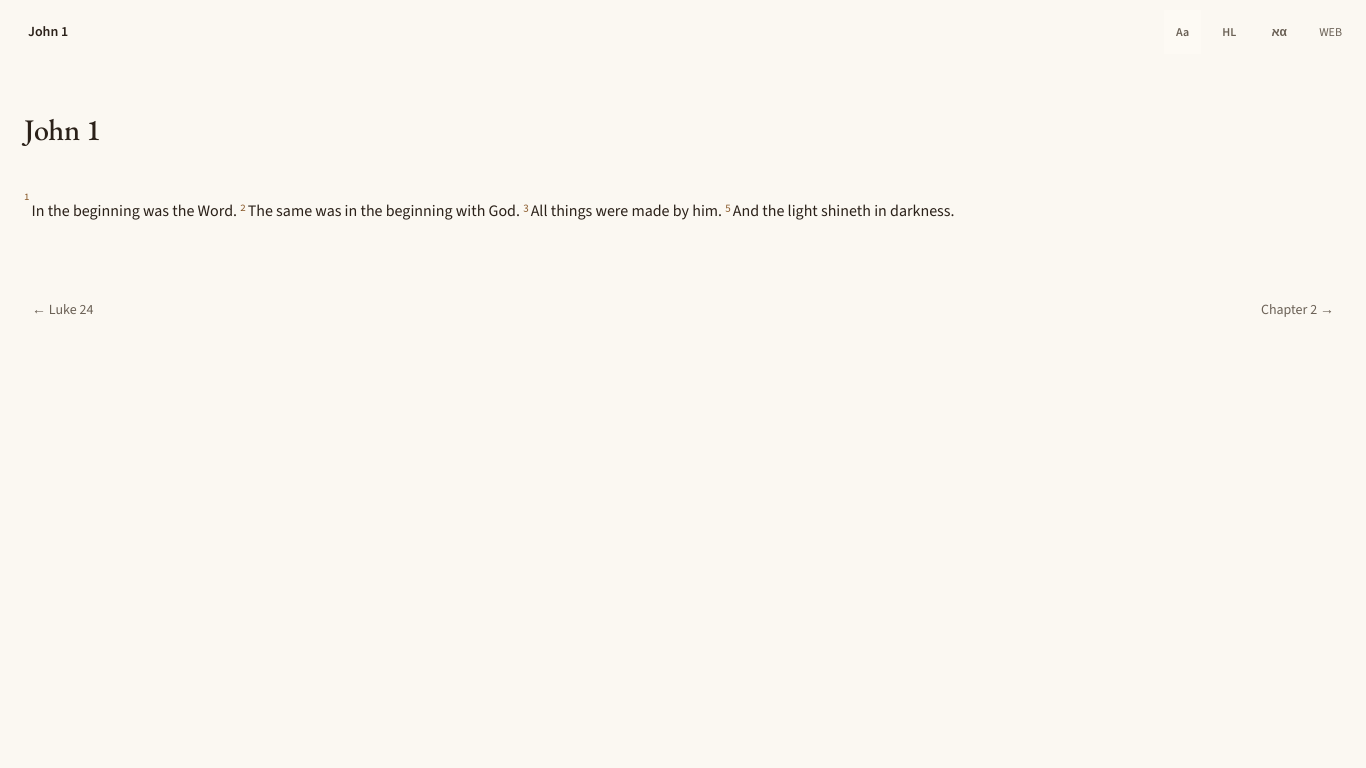
A027/A028 through the reader page › disables the step at each end of the real chapter
Click the button "1" at (27, 196), box top-left (24, 190), bottom-right (30, 202)
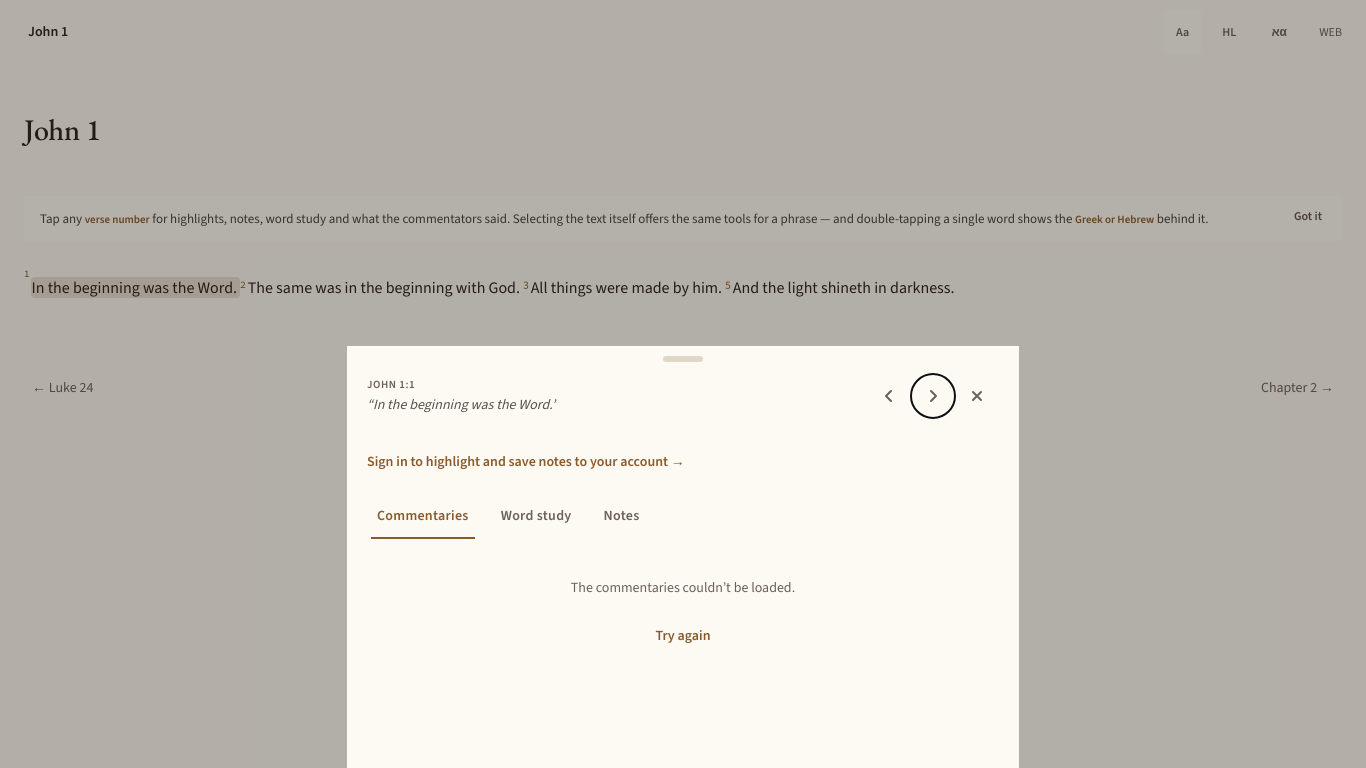
Expected: the button named "Previous verse" is disabled, top-left (867, 374), bottom-right (911, 418)
Expected: the button named "Next verse" is enabled
Click the button named "Next verse" at (933, 396), box top-left (911, 374), bottom-right (955, 418)
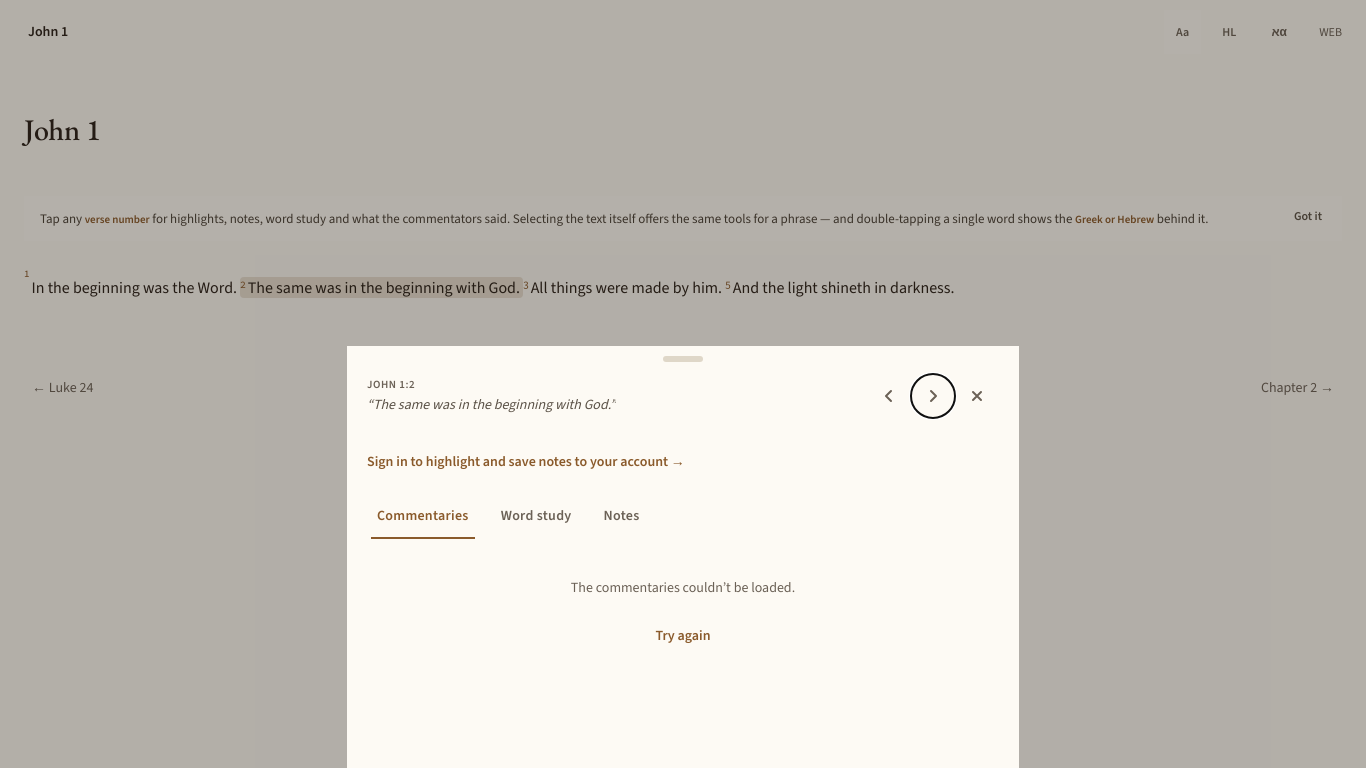
Click the button named "Next verse" at (933, 396), box top-left (911, 374), bottom-right (955, 418)
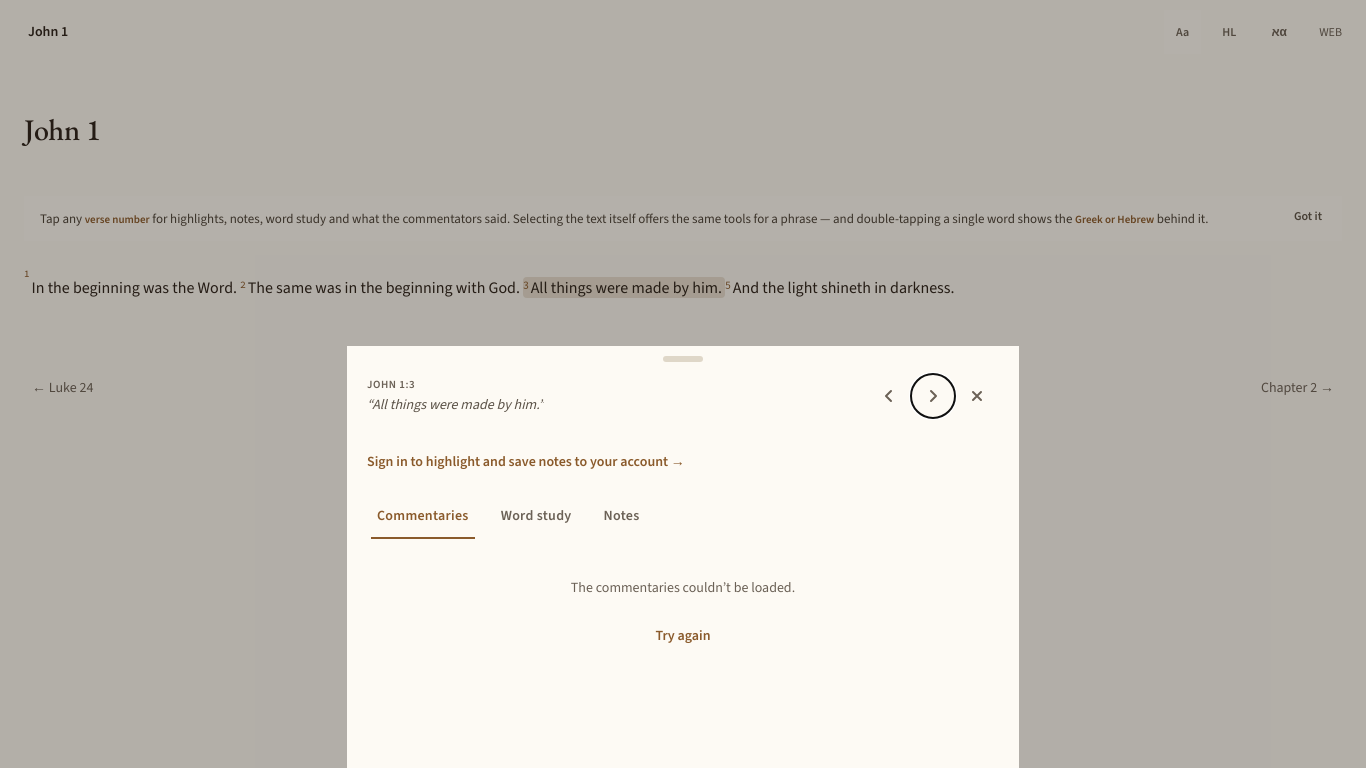
Click the button named "Next verse" at (933, 396), box top-left (911, 374), bottom-right (955, 418)
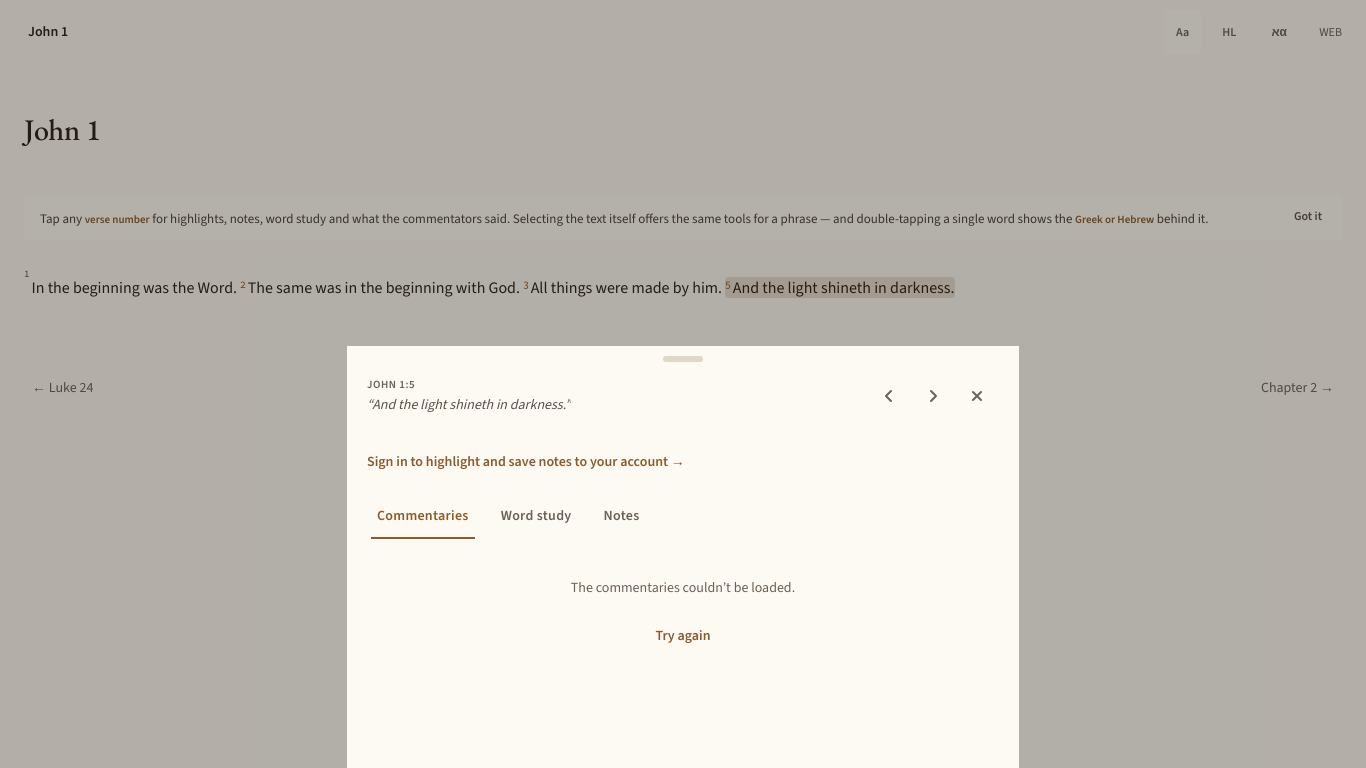
Expected: the text "John 1:5" is shown, top-left (367, 377), bottom-right (415, 392)
Expected: the button named "Next verse" is disabled, top-left (911, 374), bottom-right (955, 418)
